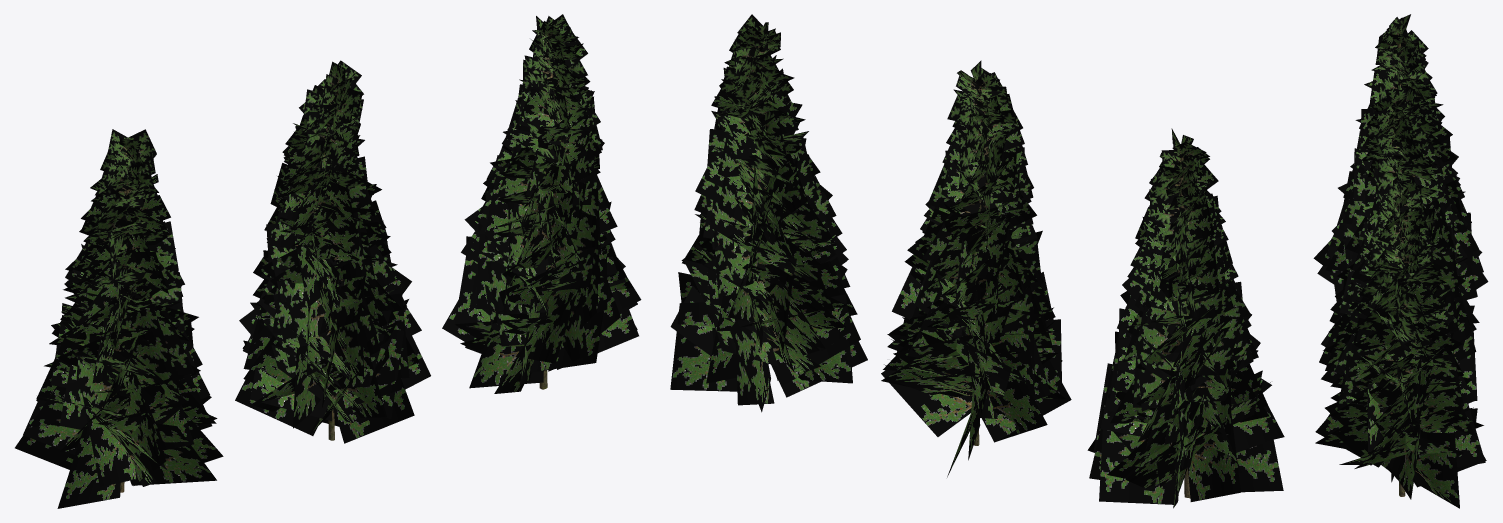
The model's file is trees2.glb.
3 views of the same model, side by side, from view 1: azimuth 30°, elevation 25°; view 2: azimuth 150°, elevation 25°; view 3: azimuth 270°, elevation 25° (orthographic). The views are drawn at different scales.
Visible parts, largest first — view 1: Tree-1_1, Tree_0, Tree-2_2; view 2: Tree-2_2, Tree_0, Tree-1_1; view 3: Tree-2_2, Tree-1_1, Tree_0.
Boxes of the visible parts, bbox=[...] form: Tree-1_1: bbox=[235, 60, 430, 443]; Tree_0: bbox=[15, 129, 223, 508]; Tree-2_2: bbox=[442, 14, 641, 393]; Tree-2_2: bbox=[670, 14, 867, 412]; Tree_0: bbox=[1087, 128, 1284, 508]; Tree-1_1: bbox=[881, 60, 1071, 477]; Tree-2_2: bbox=[1315, 181, 1486, 508]; Tree-1_1: bbox=[1319, 89, 1477, 400]; Tree_0: bbox=[1313, 14, 1488, 323].
Bounding box in the file's own units: 2.74 × 1.72 × 0.8422.
2 materials, 2 textured.
